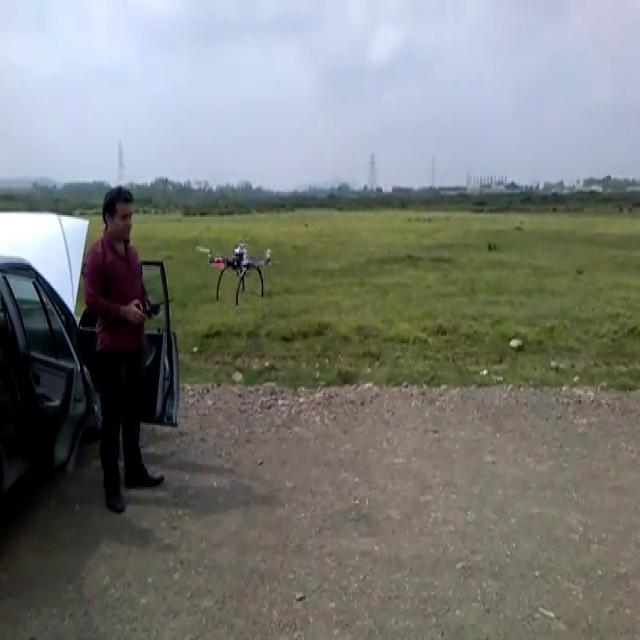drone: (195, 233, 279, 306)
